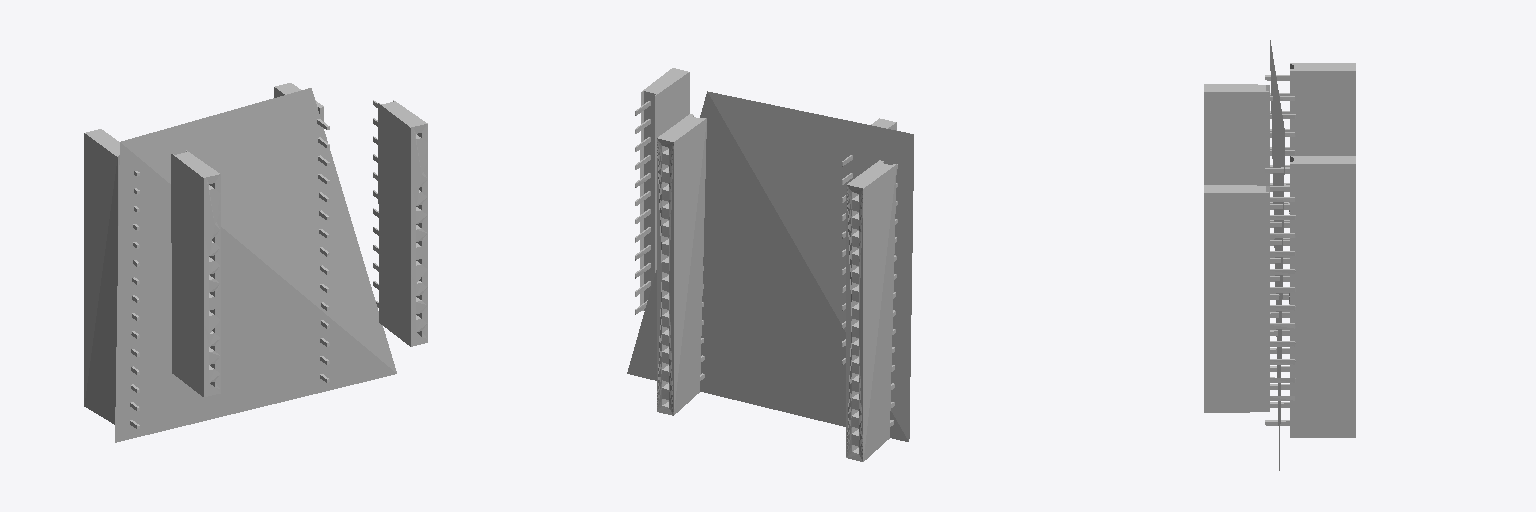
Rendered from OBJ_PCB_ePaper v0.2.obj.
The picture shows the model from 3 angles: view 1: azimuth 30°, elevation 25°; view 2: azimuth 150°, elevation 25°; view 3: azimuth 270°, elevation 25°; orthographic projection.
Size of the model in its own units: 164 by 169 by 76.49.